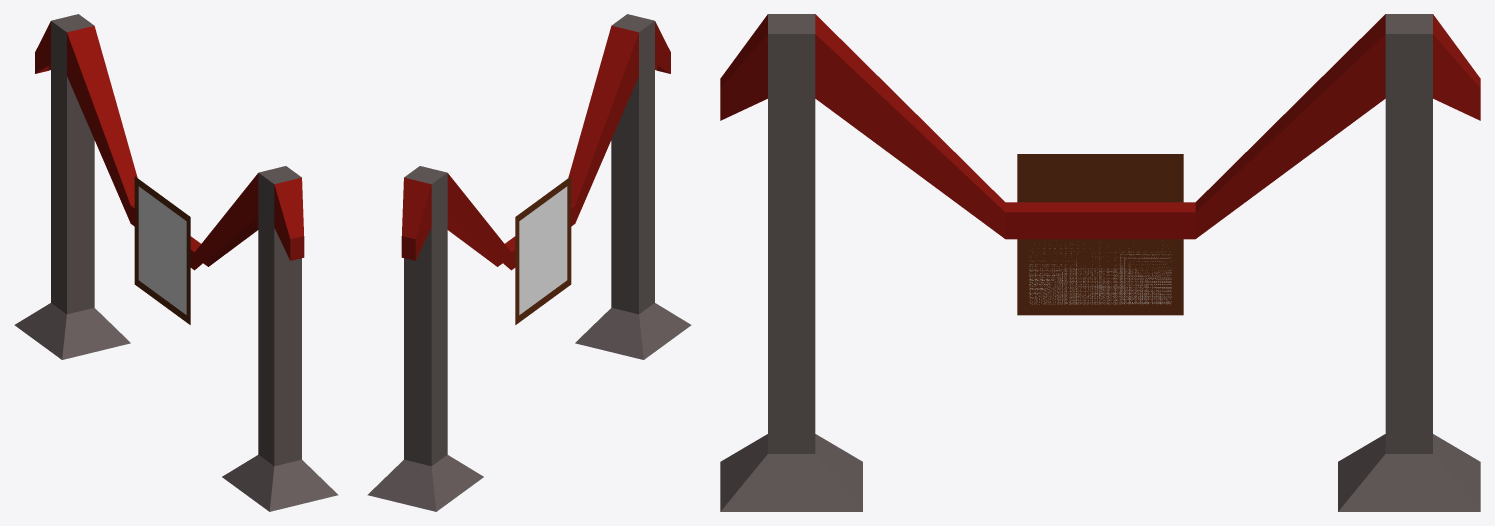
Rendered from model_loc_1002_1.obj.
The picture shows the model from 3 angles, left to right: view 1: azimuth 30°, elevation 25°; view 2: azimuth 150°, elevation 25°; view 3: azimuth 270°, elevation 25°; orthographic projection. The views are drawn at different scales.
Visible parts, largest first — view 1: 959; view 2: 959; view 3: 959.
Part boxes in pixels (x1=…): 959: x1=14, y1=14, x2=338, y2=511; 959: x1=367, y1=14, x2=691, y2=511; 959: x1=720, y1=14, x2=1480, y2=511.
Size of the model in its own units: 20 by 86 by 128.
